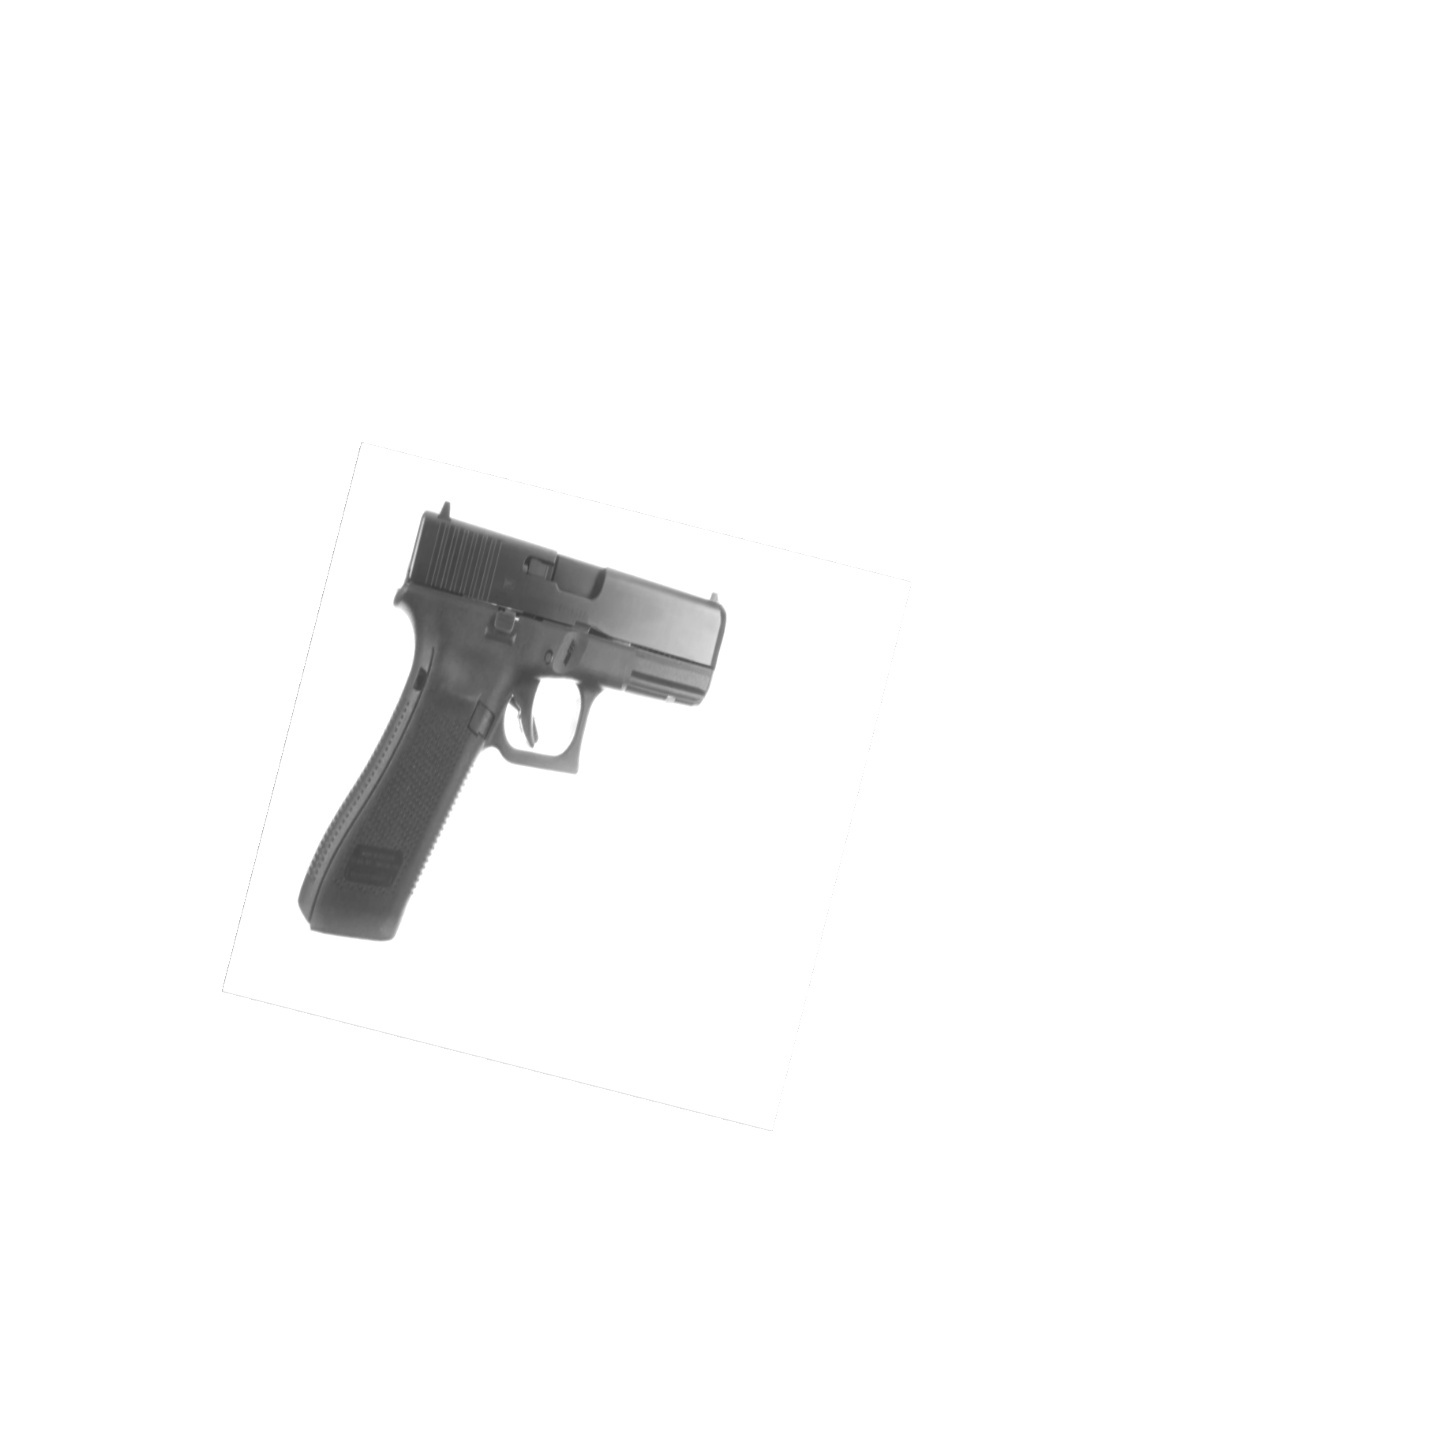gun: (298, 502, 727, 942)
